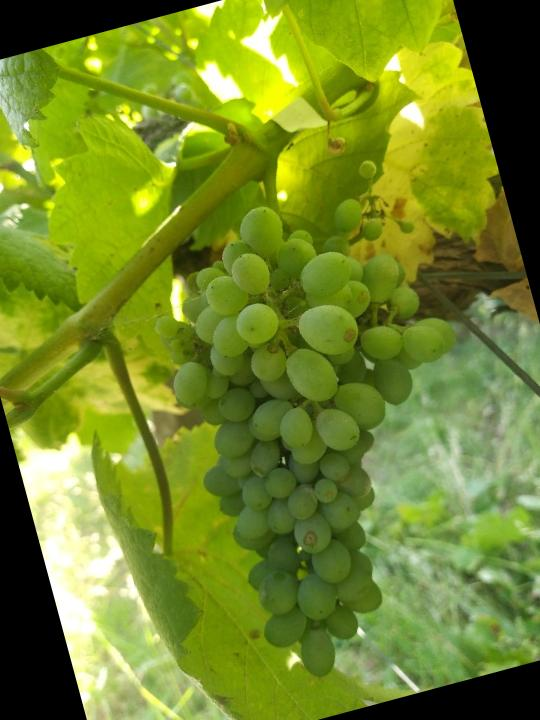grape: (123, 146, 540, 705)
